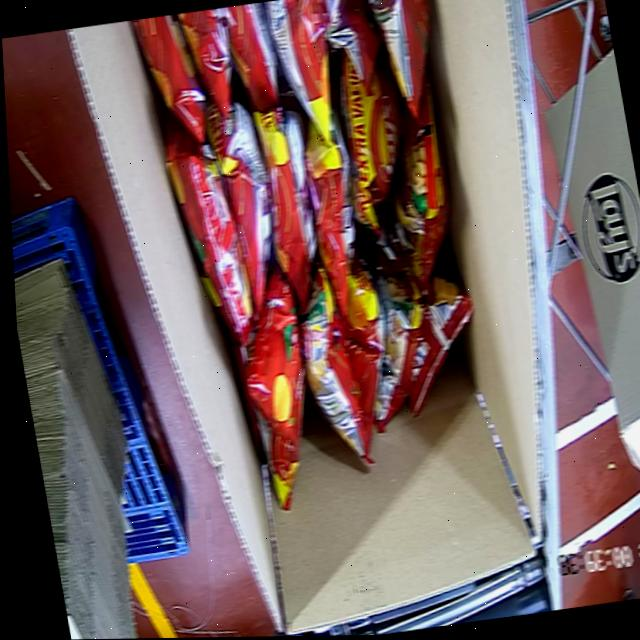MASALA: (122, 0, 520, 521)
